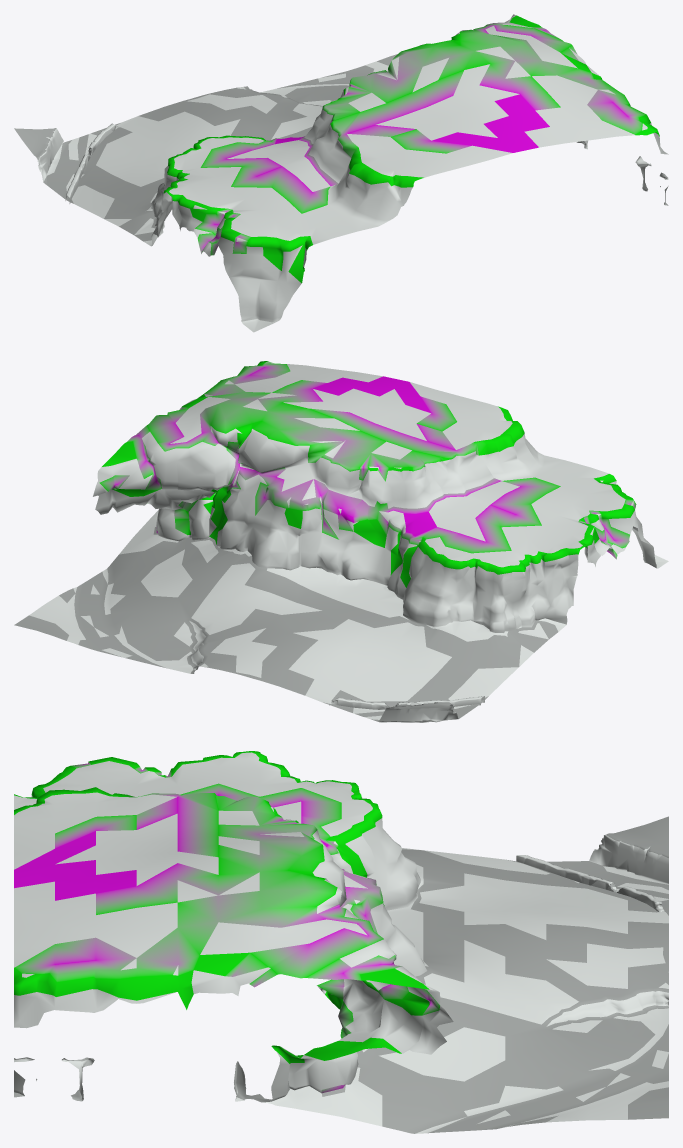
3 renders of one model, top to bottom at view 1: azimuth 30°, elevation 25°; view 2: azimuth 150°, elevation 25°; view 3: azimuth 270°, elevation 25°, orthographic. The views are drawn at different scales.
Parts seen in each view (by area): view 1: G:\FFXIV-MapTools\exports\f1f1\bg\ffxiv\fst_f1\fld\f1f1\bgpl (×15); view 2: G:\FFXIV-MapTools\exports\f1f1\bg\ffxiv\fst_f1\fld\f1f1\bgpl (×15); view 3: G:\FFXIV-MapTools\exports\f1f1\bg\ffxiv\fst_f1\fld\f1f1\bgpl (×18).
Part boxes in pixels (x1,y1,x2,y2): G:\FFXIV-MapTools\exports\f1f1\bg\ffxiv\fst_f1\fld\f1f1\bgpl (×15): (14,14,668,332); G:\FFXIV-MapTools\exports\f1f1\bg\ffxiv\fst_f1\fld\f1f1\bgpl (×15): (14,361,668,722); G:\FFXIV-MapTools\exports\f1f1\bg\ffxiv\fst_f1\fld\f1f1\bgpl (×18): (14,751,668,1133).
Size of the model in its own units: 128 by 43.08 by 128.
